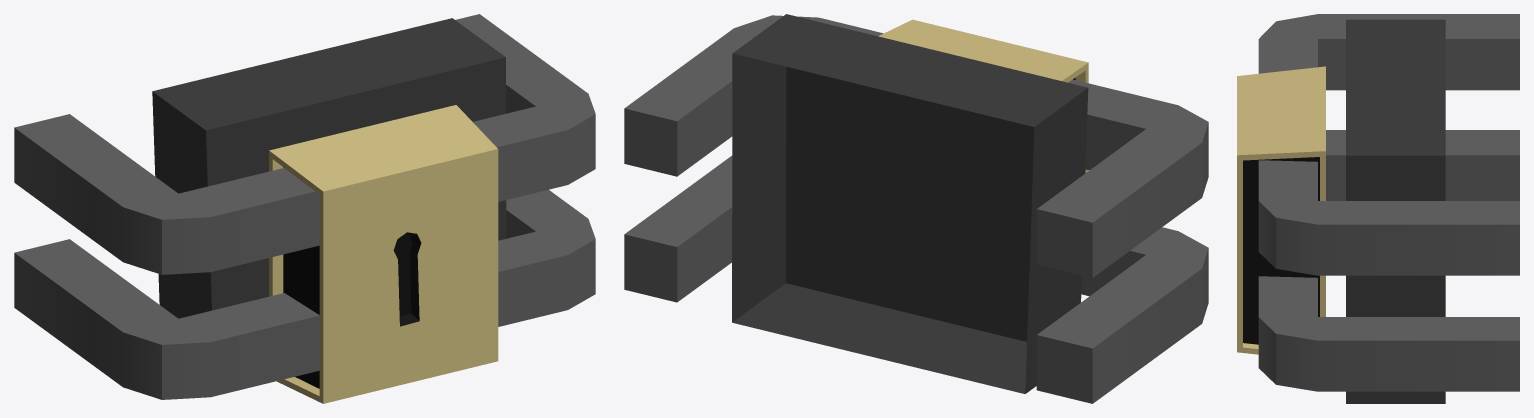
The model's file is golden lock.fbx.
The picture shows the model from 3 angles, left to right: view 1: azimuth 30°, elevation 25°; view 2: azimuth 150°, elevation 25°; view 3: azimuth 270°, elevation 25°; orthographic projection. The views are drawn at different scales.
Parts seen in each view (by area): view 1: Cube.013, Cube.014, Cube.017, Cube.003; view 2: Cube.003, Cube.014, Cube.017, Cube.013; view 3: Cube.014, Cube.017, Cube.003, Cube.013.
Part boxes in pixels (left/top/right/bottom): Cube.013: left=269, top=105, right=498, bottom=403; Cube.014: left=14, top=14, right=595, bottom=274; Cube.017: left=14, top=189, right=595, bottom=399; Cube.003: left=152, top=18, right=506, bottom=318; Cube.003: left=732, top=14, right=1088, bottom=393; Cube.014: left=624, top=15, right=1208, bottom=277; Cube.017: left=624, top=155, right=1208, bottom=403; Cube.013: left=878, top=19, right=1088, bottom=173; Cube.014: left=1258, top=14, right=1519, bottom=275; Cube.017: left=1258, top=130, right=1519, bottom=391; Cube.003: left=1346, top=19, right=1445, bottom=403; Cube.013: left=1237, top=66, right=1325, bottom=354.
Size of the model in its own units: 0.5357 by 0.2944 by 0.304.
